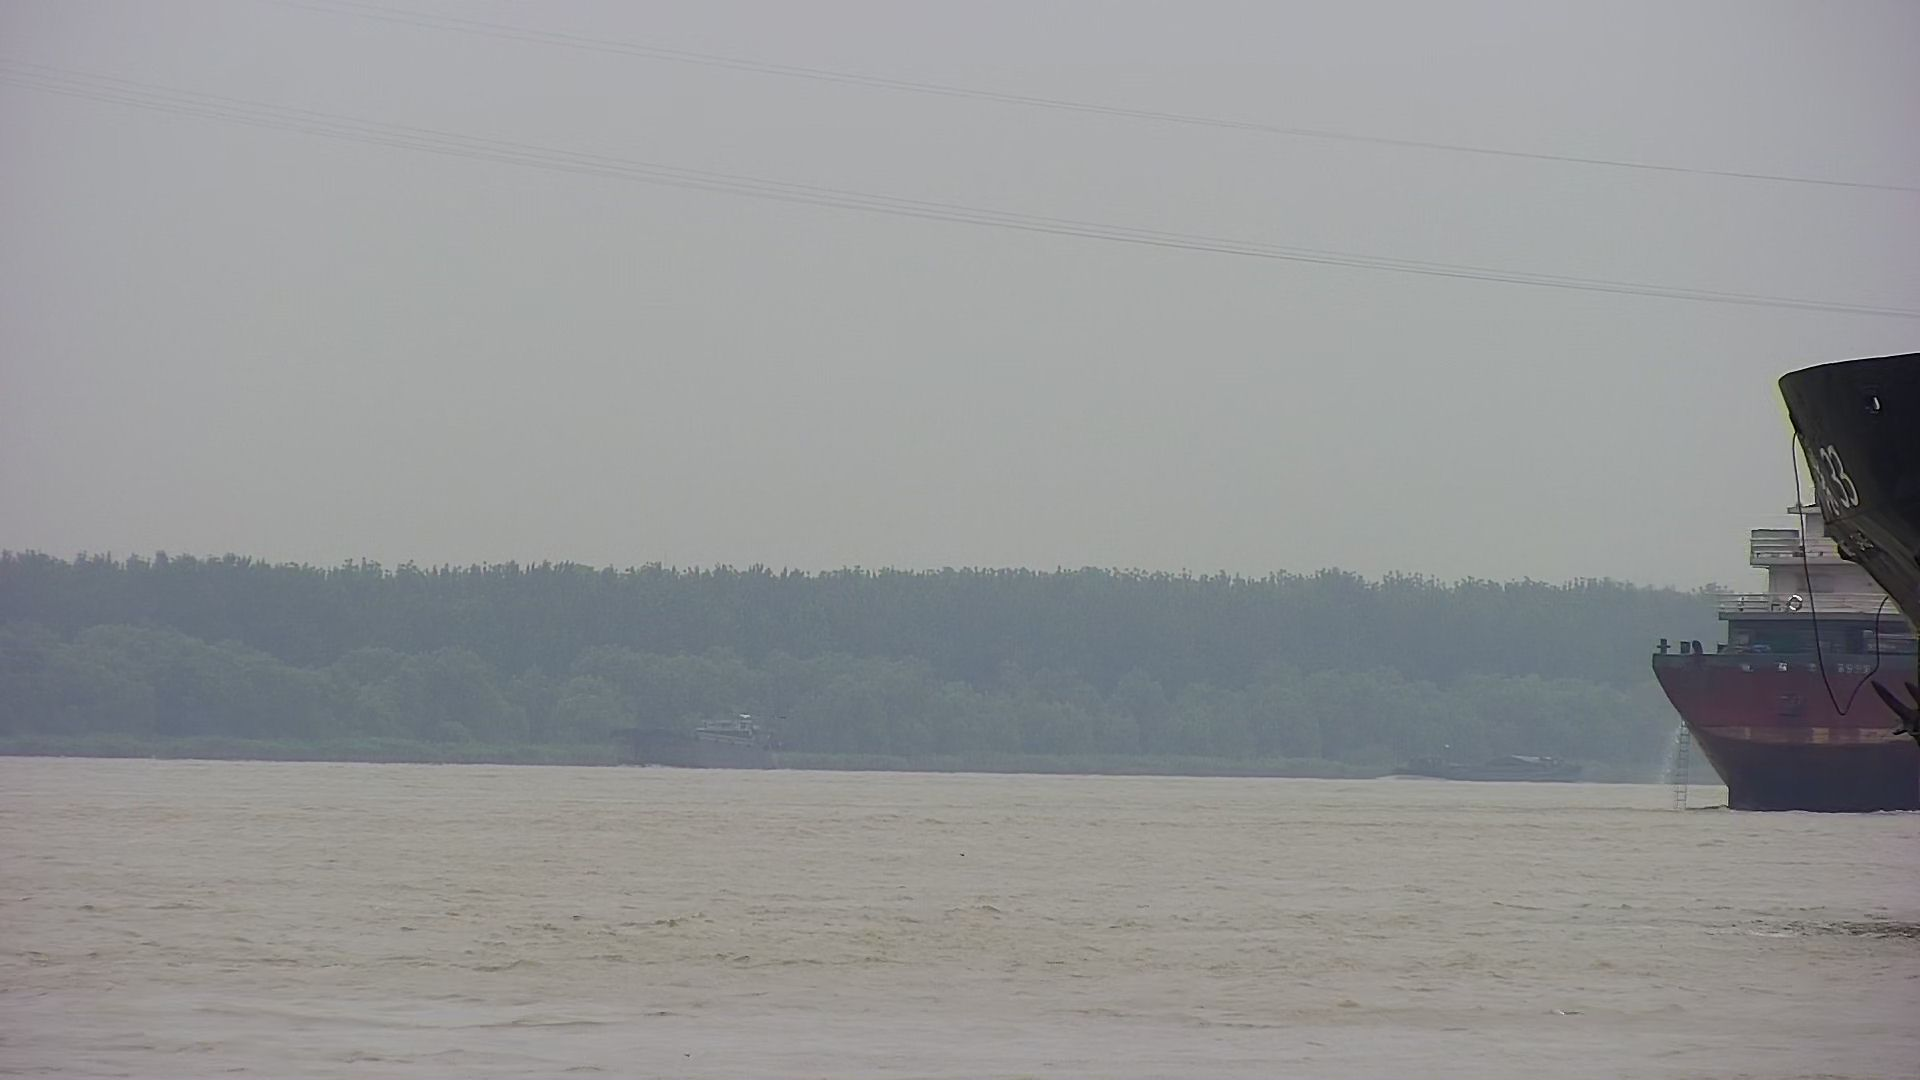ship: (1640, 469, 1920, 822), (1762, 328, 1920, 938)
